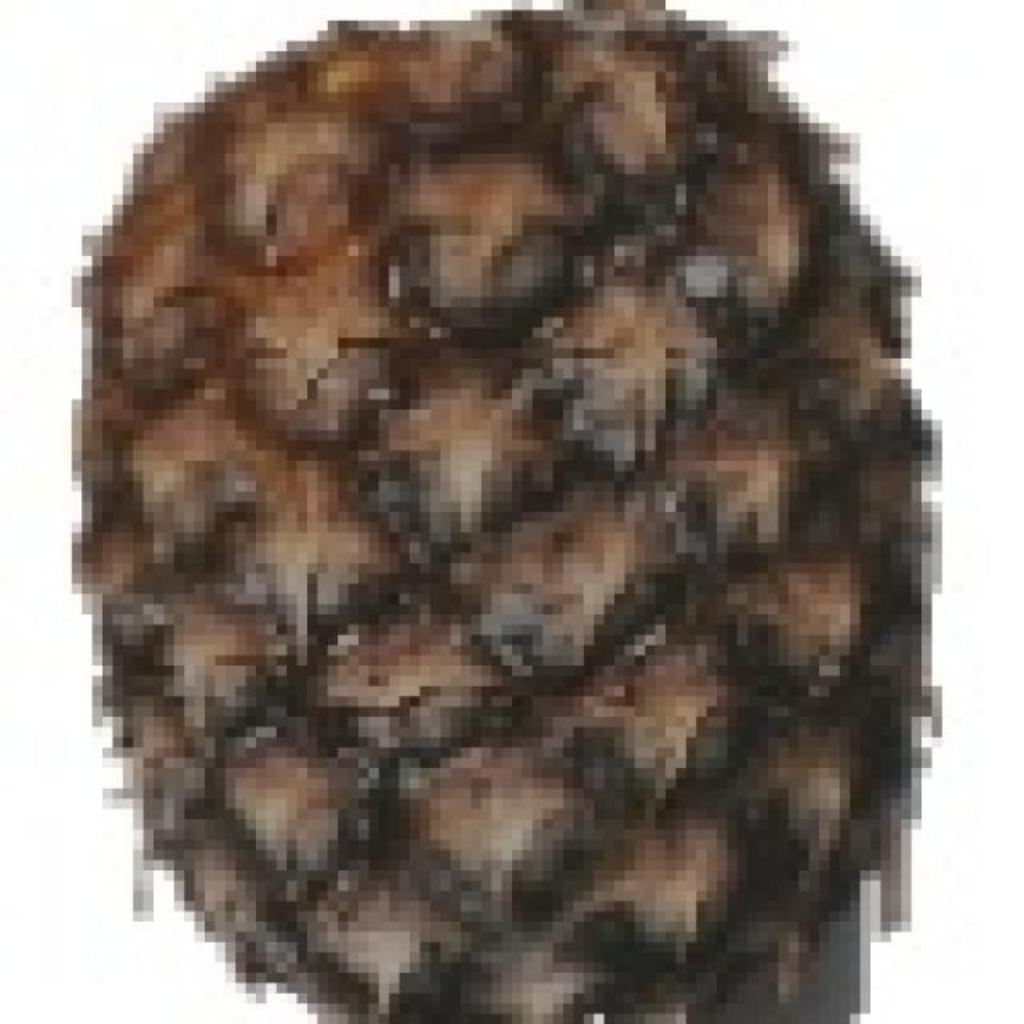pineapple: (80, 0, 932, 1024)
